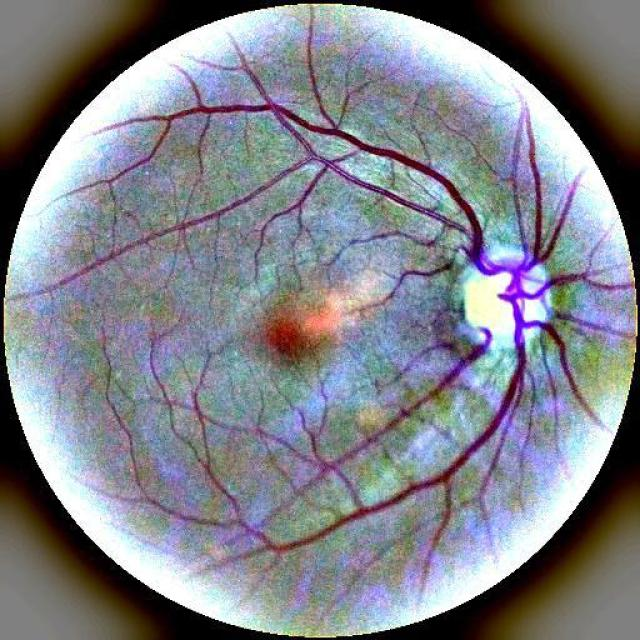Macula: (247, 290, 337, 383)
Nerves: (76, 79, 522, 320), (232, 320, 546, 562)
Optic Disk: (446, 230, 580, 367)
